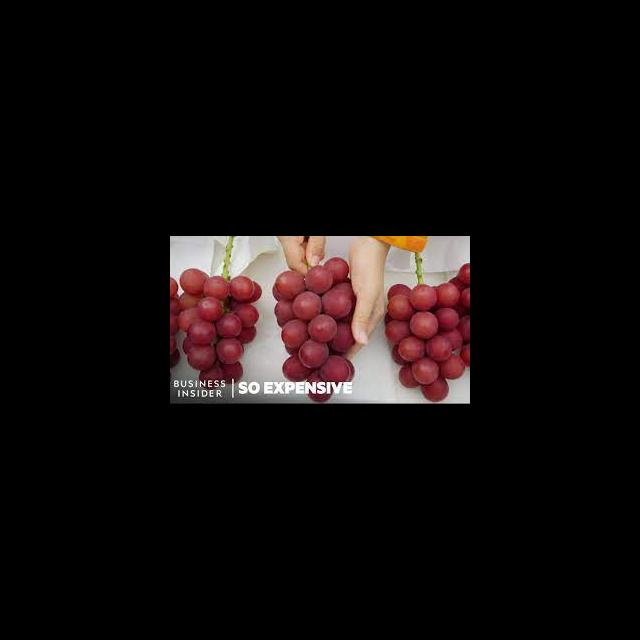grape: (272, 256, 356, 401), (384, 261, 469, 401), (170, 267, 261, 389)
